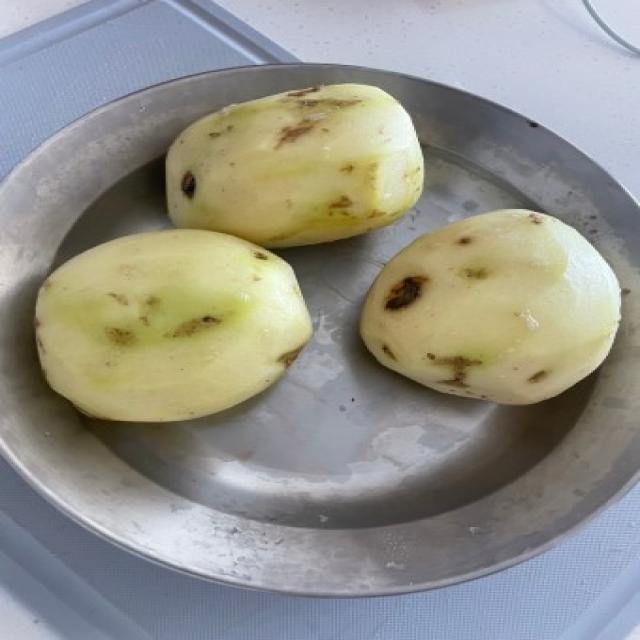potato: (33, 224, 314, 427), (358, 206, 626, 405), (166, 80, 432, 247)
